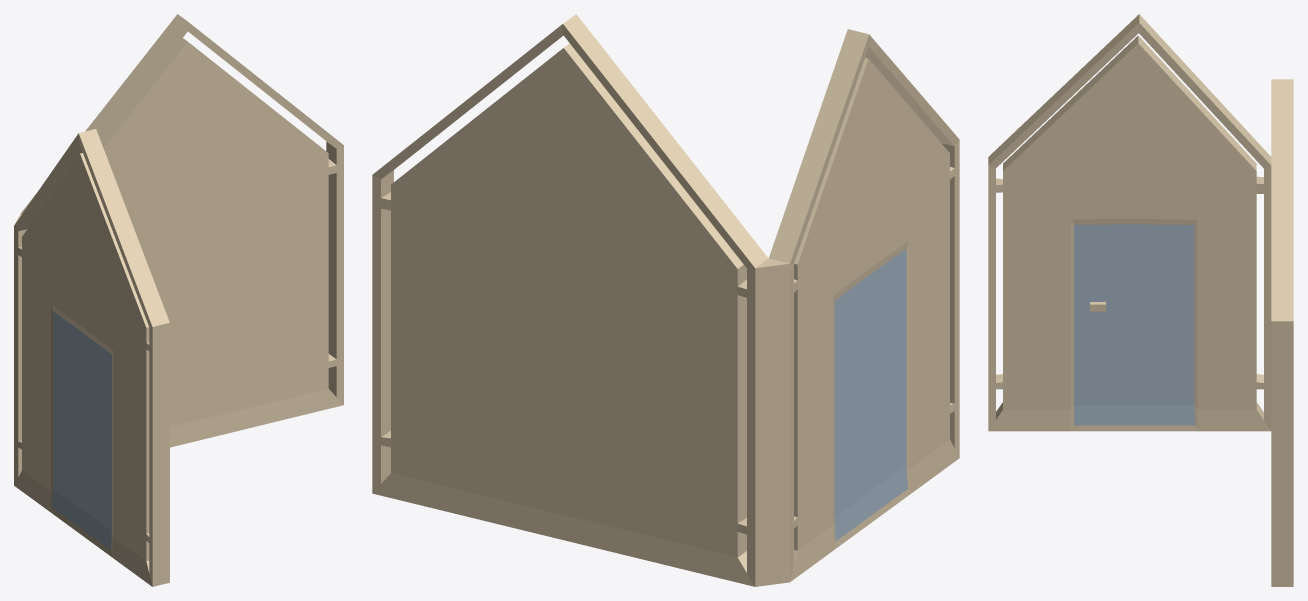
The model's file is House_Side_model.fbx.
3 views of the same model, side by side, from view 1: azimuth 30°, elevation 25°; view 2: azimuth 150°, elevation 25°; view 3: azimuth 270°, elevation 25° (orthographic). The views are drawn at different scales.
Visible parts, largest first — view 1: House_Side_model; view 2: House_Side_model; view 3: House_Side_model.
Boxes of the visible parts, x1,y1,x2,y2 form: House_Side_model: (14,14,343,586); House_Side_model: (372,14,959,586); House_Side_model: (988,14,1293,586).
Bounding box in the file's own units: 114 × 139 × 89.
